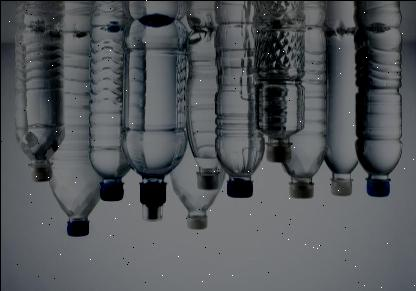Plastic Bottle: (119, 18, 186, 221), (48, 31, 100, 236), (214, 22, 264, 197), (354, 25, 402, 196), (13, 26, 63, 181), (252, 15, 304, 162), (282, 25, 325, 198), (87, 25, 128, 201), (324, 29, 357, 195), (185, 28, 218, 190), (169, 144, 224, 229)
